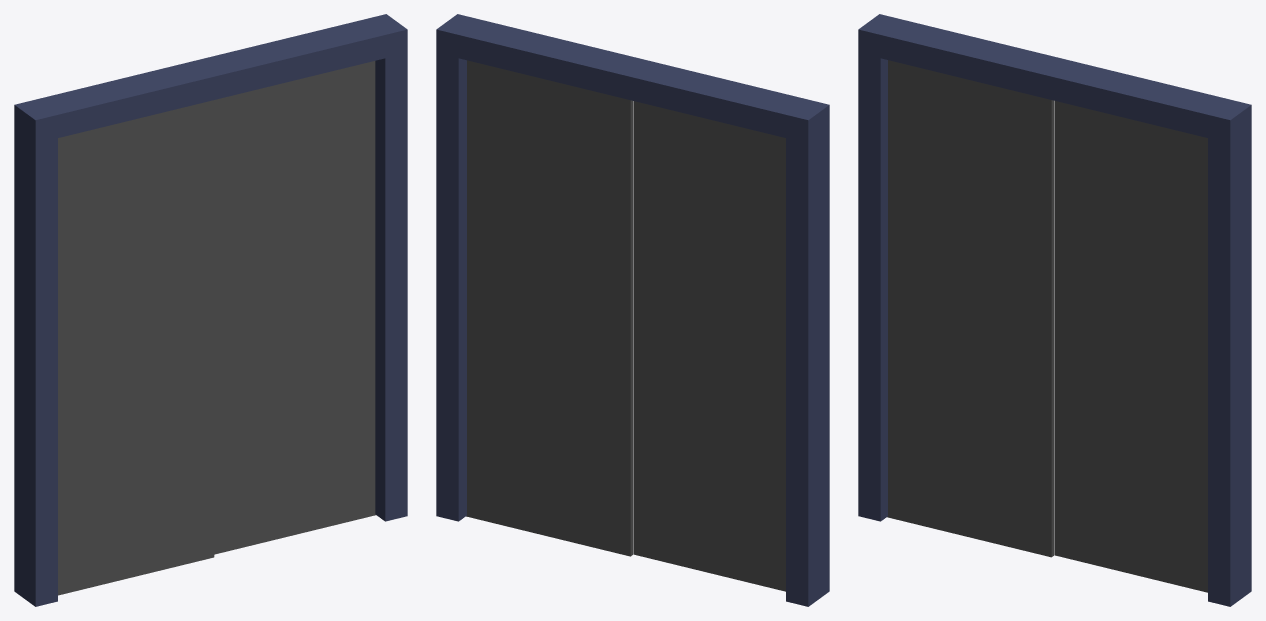
File: Door.glb
3 renders of one model, left to right at view 1: azimuth 30°, elevation 25°; view 2: azimuth 150°, elevation 25°; view 3: azimuth 330°, elevation 25°, orthographic.
Parts seen in each view (by area): view 1: Plane.001, Plane, Cube.002; view 2: Plane.001, Plane, Cube.002; view 3: Plane, Plane.001, Cube.002.
Boxes of the visible parts, x1=… form: Plane.001: x1=214, y1=61, x2=375, y2=554; Plane: x1=58, y1=100, x2=214, y2=595; Cube.002: x1=14, y1=14, x2=407, y2=606; Plane.001: x1=466, y1=60, x2=633, y2=556; Plane: x1=633, y1=101, x2=785, y2=591; Cube.002: x1=436, y1=14, x2=829, y2=606; Plane: x1=887, y1=60, x2=1054, y2=557; Plane.001: x1=1054, y1=101, x2=1207, y2=592; Cube.002: x1=858, y1=14, x2=1251, y2=606.
Bounding box in the file's own units: 2 × 2.51 × 0.1972.
